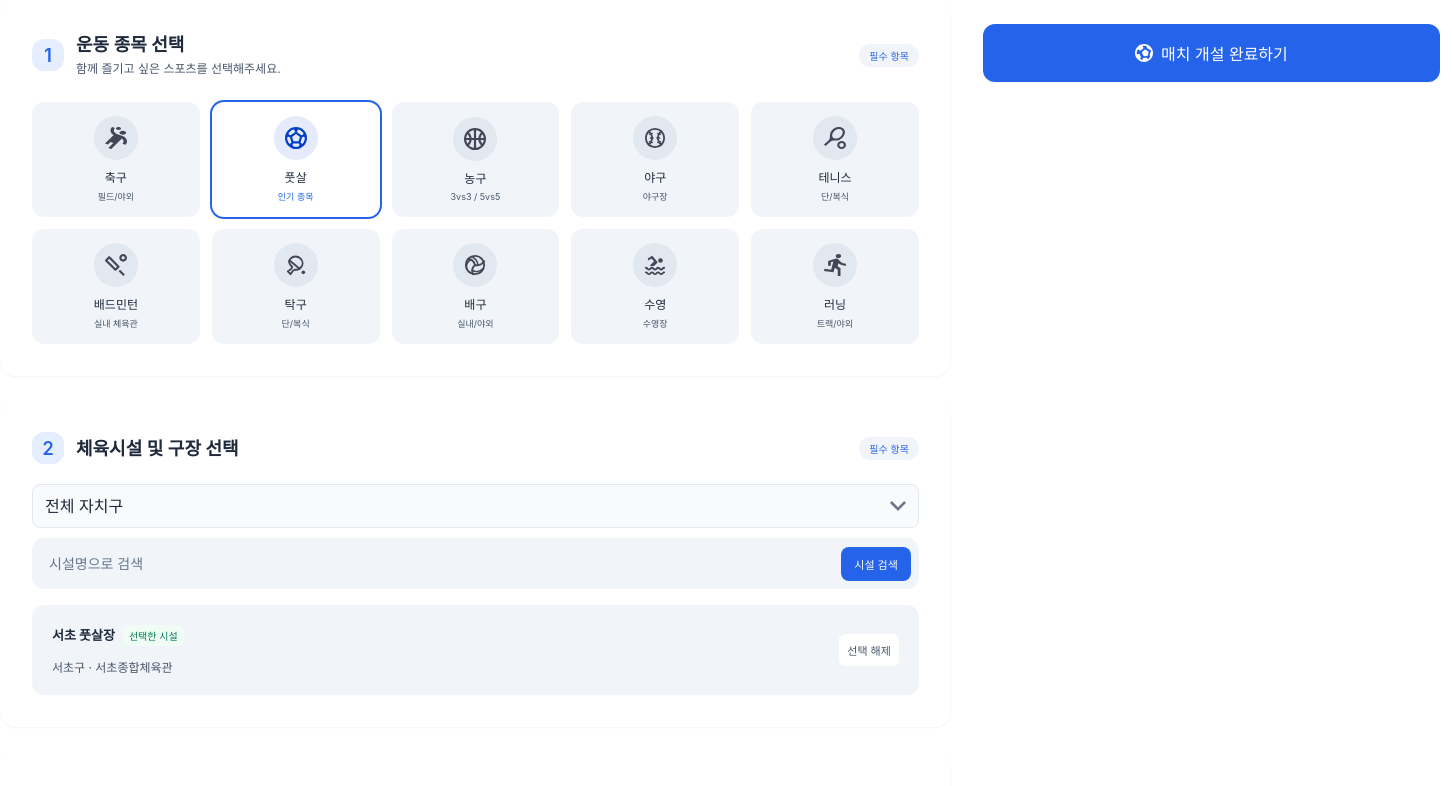
Test: submits a populated form once while the request is pending
The image size is (1452, 786).
Click the button "매치 개설 완료하기": (1211, 53) [983,24,1440,82]
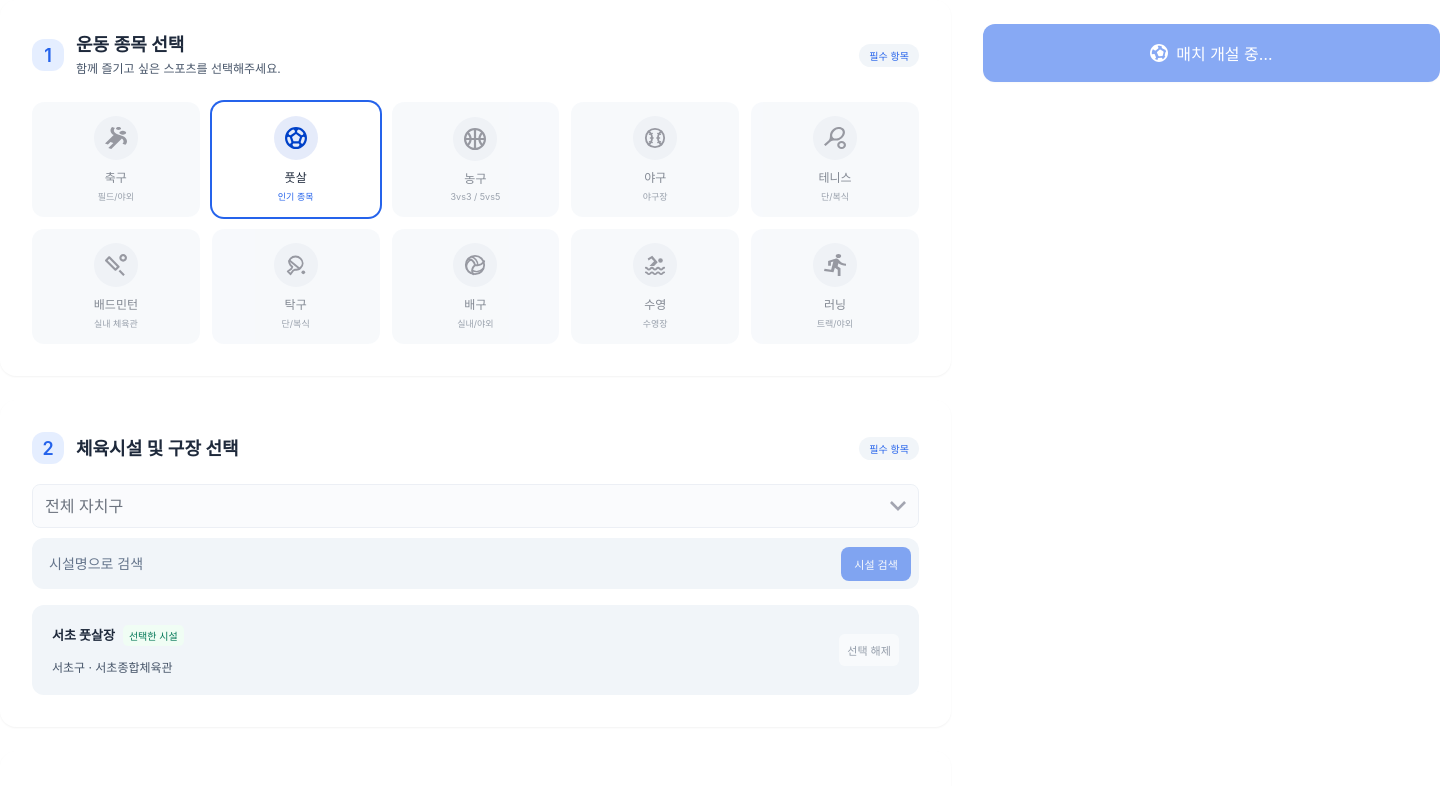
Click the button "매치 개설 중…": (1211, 53) [983,24,1440,82]
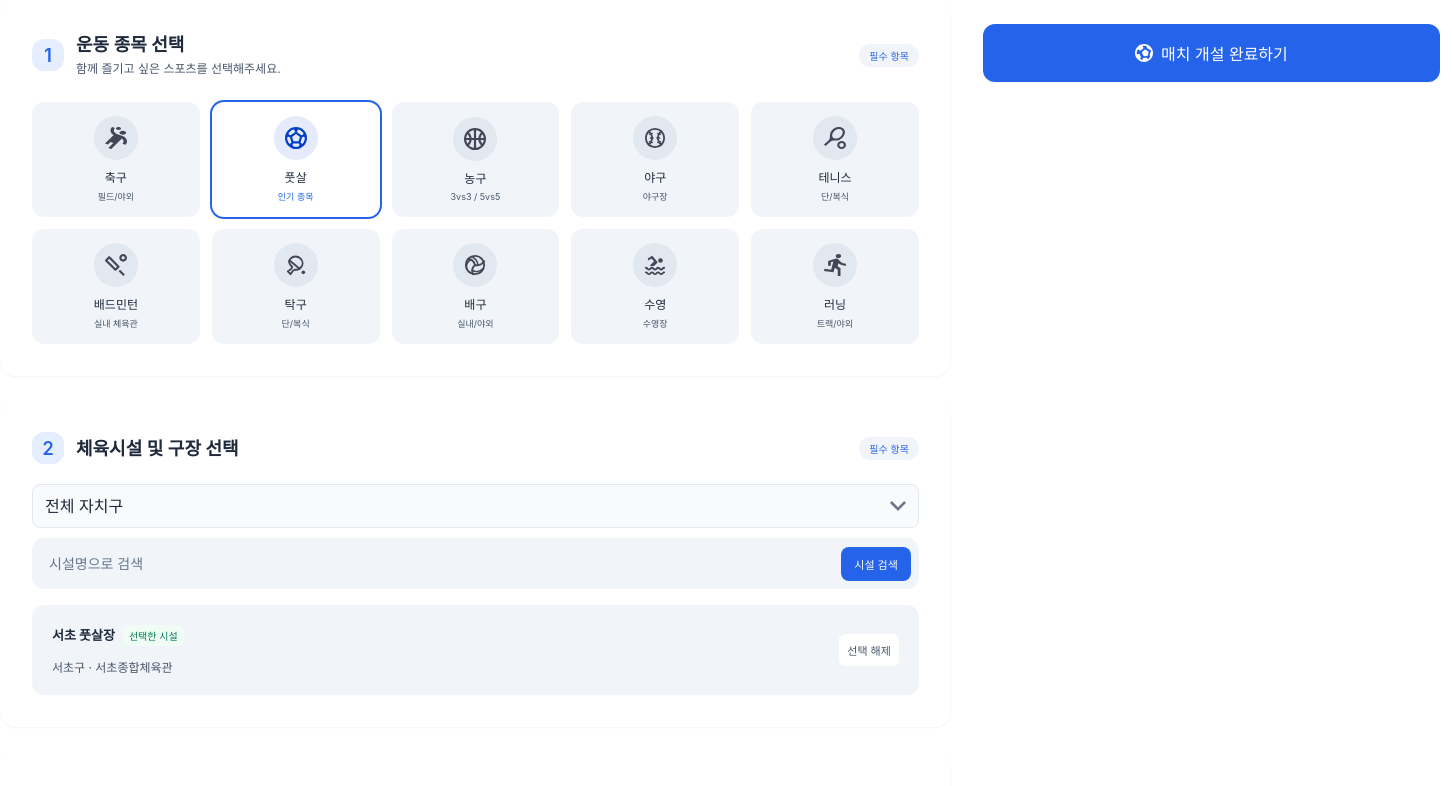
Now the button "매치 개설 완료하기" is enabled, box [983,24,1440,82]
